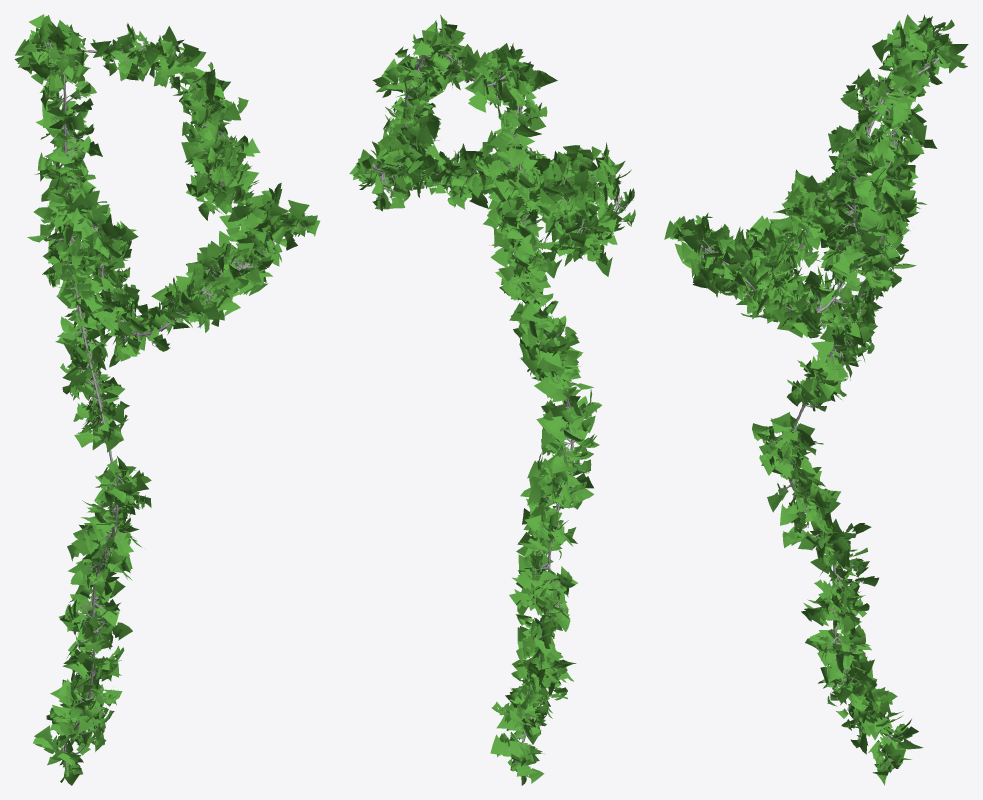
Rendered from ivyObelisk.fbx.
3 renders of one model, left to right at view 1: azimuth 30°, elevation 25°; view 2: azimuth 150°, elevation 25°; view 3: azimuth 270°, elevation 25°, orthographic. The views are drawn at different scales.
Parts seen in each view (by area): view 1: ivyObelisk_leaf, ivyObelisk_stem, ivyObelisk_vine; view 2: ivyObelisk_leaf, ivyObelisk_stem, ivyObelisk_vine; view 3: ivyObelisk_leaf, ivyObelisk_stem, ivyObelisk_vine.
Boxes of the visible parts, x1,y1,x2,y2 form: ivyObelisk_leaf: (14, 14, 320, 785); ivyObelisk_stem: (35, 26, 306, 773); ivyObelisk_vine: (46, 44, 286, 752); ivyObelisk_leaf: (349, 14, 635, 785); ivyObelisk_stem: (365, 32, 629, 769); ivyObelisk_vine: (372, 54, 619, 762); ivyObelisk_leaf: (664, 14, 968, 785); ivyObelisk_stem: (677, 27, 951, 767); ivyObelisk_vine: (700, 49, 941, 739).
Bounding box in the file's own units: 204 × 602 × 215.
